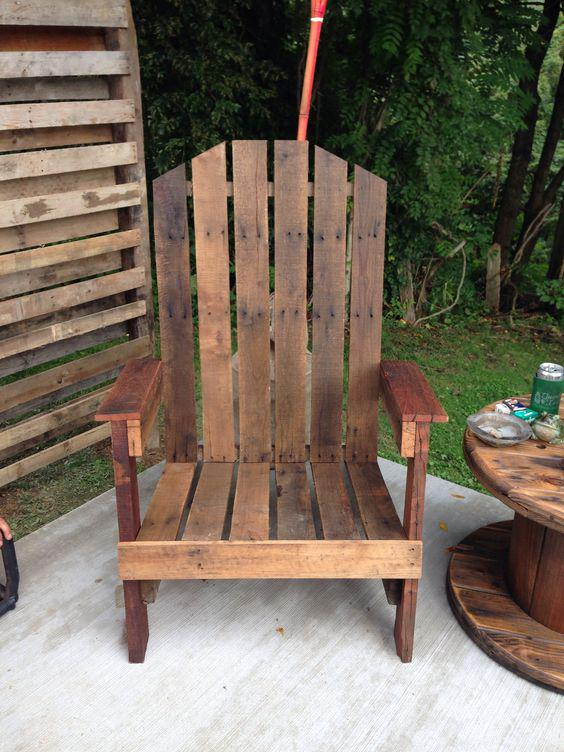wood: (102, 137, 432, 668), (10, 4, 147, 499), (446, 389, 557, 706)
